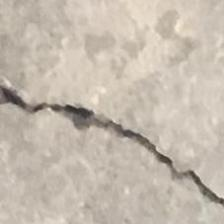Crack: (0, 74, 224, 207)
